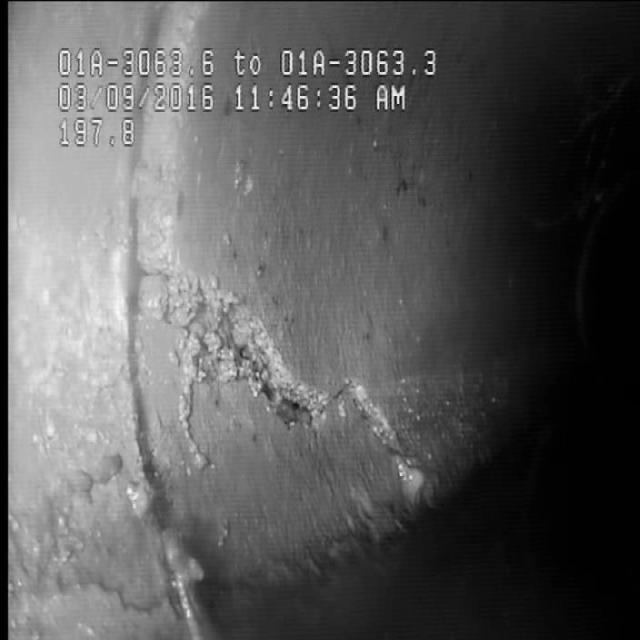Fracture: (162, 238, 400, 504)
